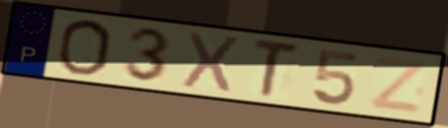3: (122, 25, 174, 84)
5: (310, 47, 362, 107)
O: (54, 18, 115, 77)
T: (251, 37, 303, 100)
X: (178, 30, 244, 96)
Z: (367, 54, 430, 116)
